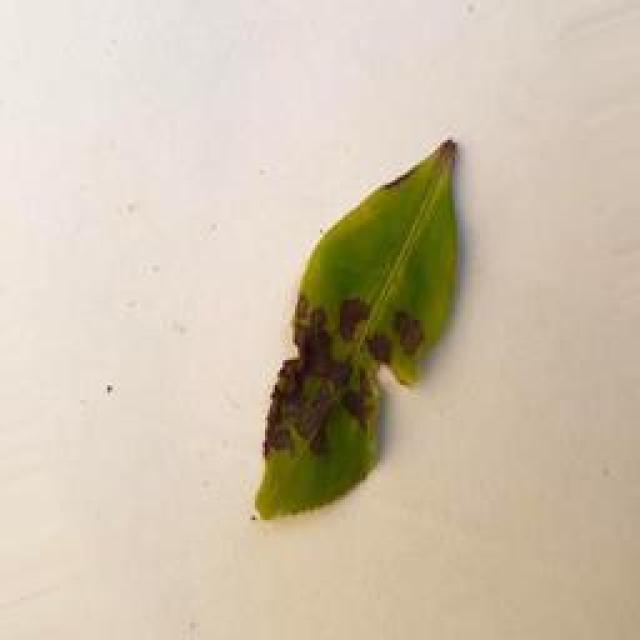Helopeltis: (245, 129, 479, 532)
